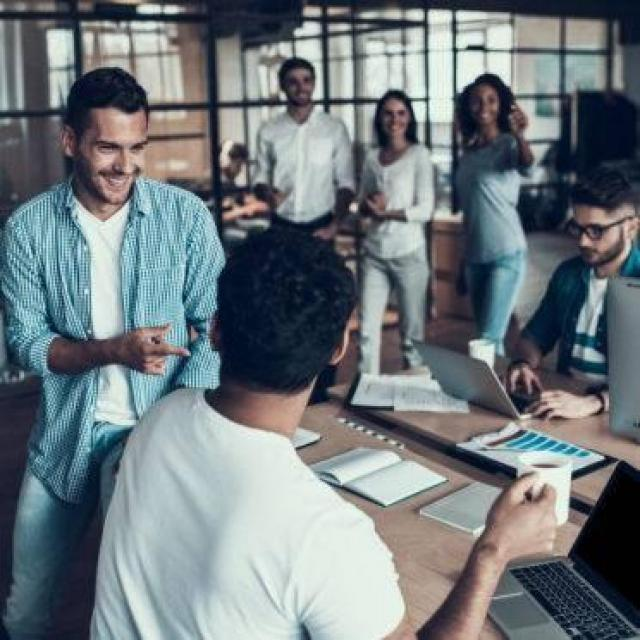person: (82, 224, 484, 638), (2, 69, 229, 636), (520, 170, 638, 413), (442, 68, 539, 360), (351, 85, 437, 392), (239, 55, 351, 251)
